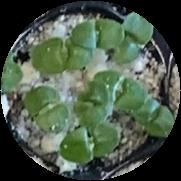Basil: (113, 10, 156, 67), (63, 125, 120, 164), (30, 39, 88, 74), (95, 75, 145, 112), (31, 87, 68, 133), (71, 20, 125, 48), (77, 82, 107, 130), (140, 103, 174, 141)
